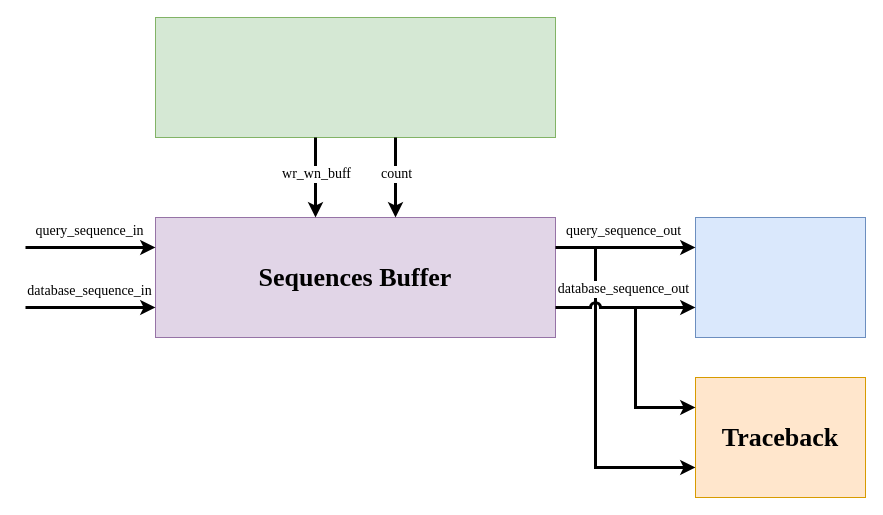
Image size: 883x515. Some labels were removed from this diagram. The shapes that lost their labels are listed below. From the top down, each one's centre as x and y in pixels, then its label:
(x=355, y=77): Controller
(x=780, y=277): Matrix Calculation
